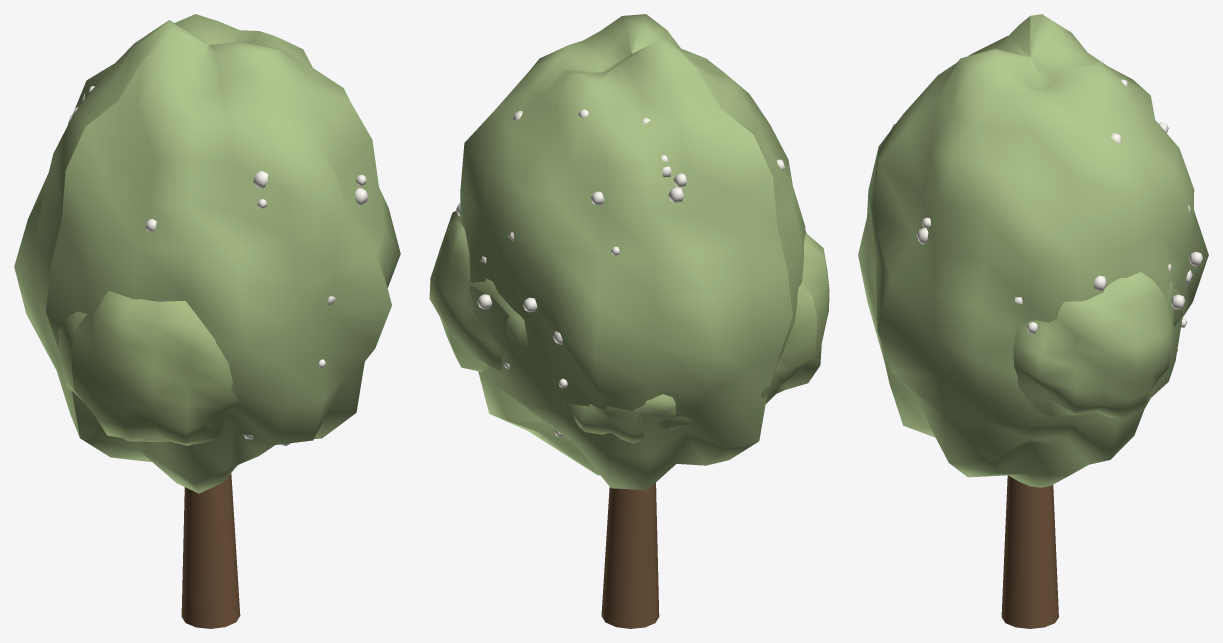
The model's file is korte-tavasz.glb.
3 views of the same model, side by side, from view 1: azimuth 30°, elevation 25°; view 2: azimuth 150°, elevation 25°; view 3: azimuth 270°, elevation 25° (orthographic). The views are drawn at different scales.
Visible parts, largest first — view 1: korona-1, korona-2, torzs, virag; view 2: korona-1, torzs, korona-3, korona-2, korona-5, virag; view 3: korona-1, korona-3, torzs, virag.
Boxes of the visible parts, <box> form: korona-1: <box>14,14,400,493</box>; korona-2: <box>58,291,238,445</box>; torzs: <box>181,473,240,628</box>; virag: <box>68,86,368,445</box>; korona-1: <box>460,14,805,490</box>; torzs: <box>601,482,659,628</box>; korona-3: <box>429,211,527,371</box>; korona-2: <box>761,230,829,403</box>; korona-5: <box>561,394,692,443</box>; virag: <box>456,109,784,436</box>; korona-1: <box>858,14,1208,487</box>; korona-3: <box>1013,272,1183,417</box>; torzs: <box>1001,475,1058,628</box>; virag: <box>891,60,1203,333</box>.
Size of the model in its own units: 2.76 by 4.74 by 2.57.
